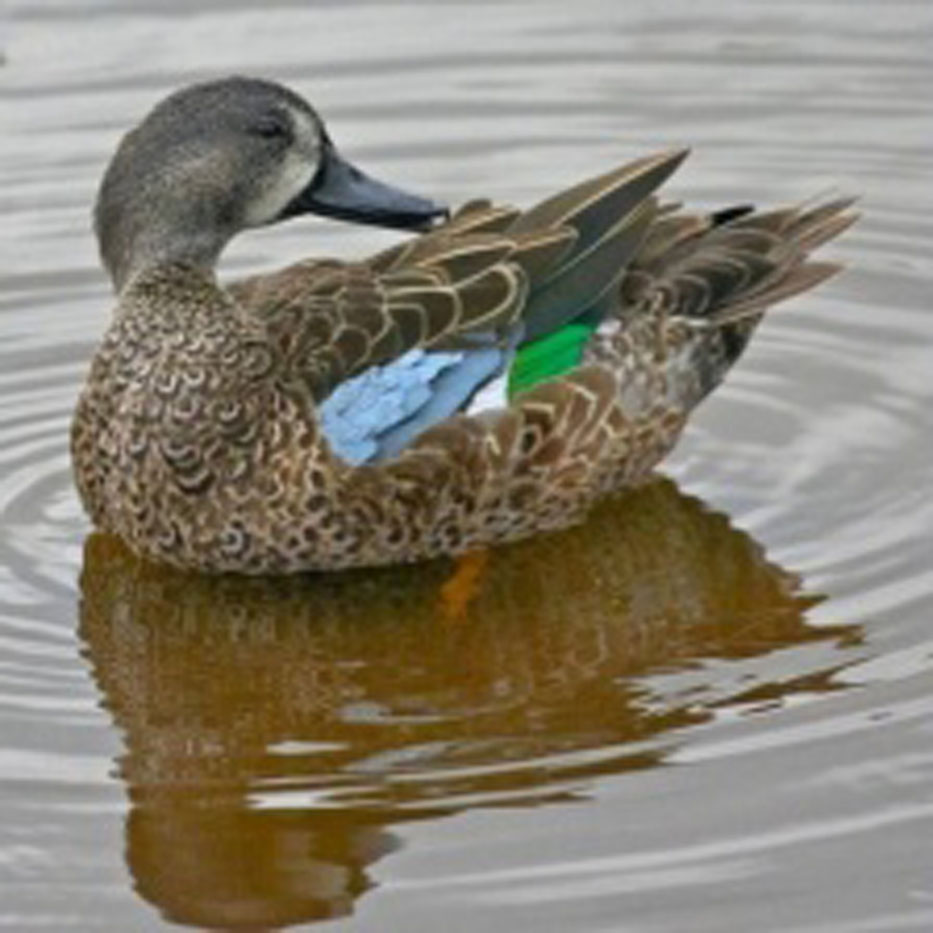Mencari Makan di Lumpur: (298, 145, 461, 251)
